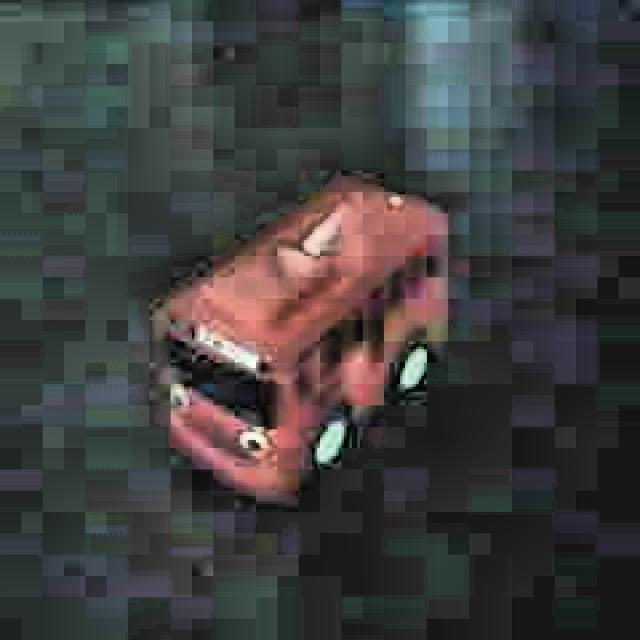bus: (149, 167, 463, 514)
